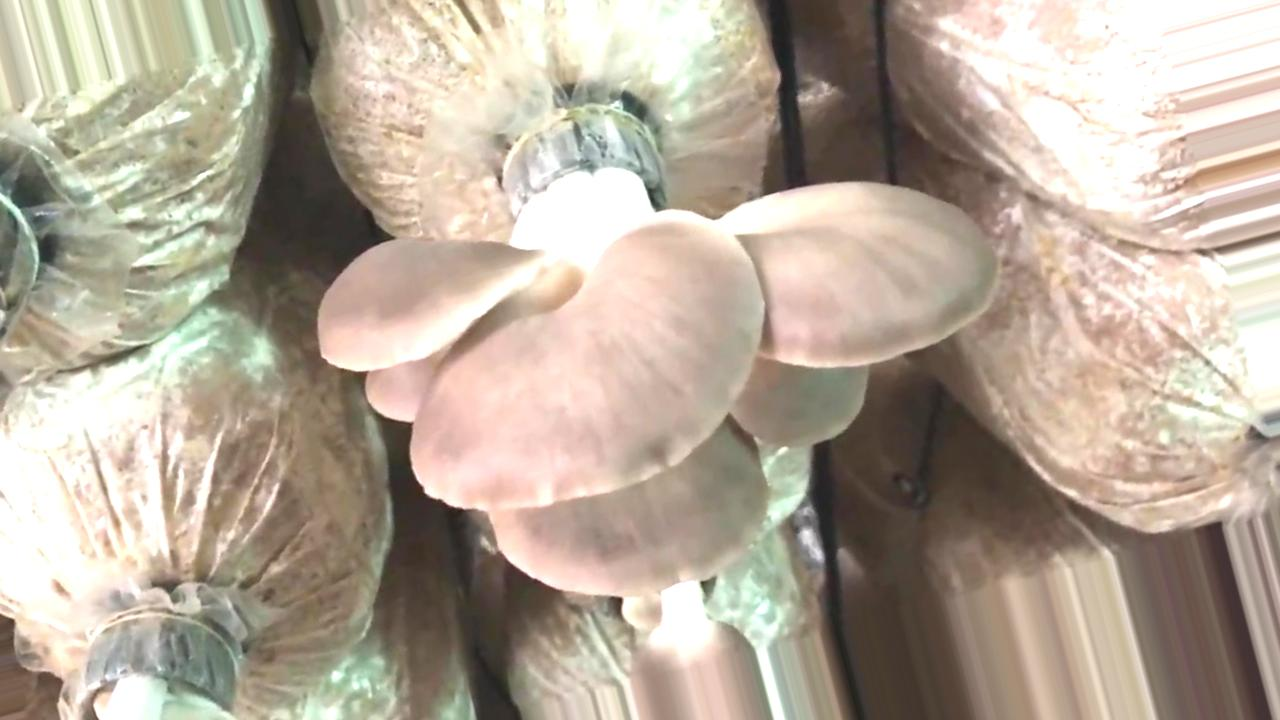nam: (321, 102, 998, 592), (622, 580, 769, 720)
